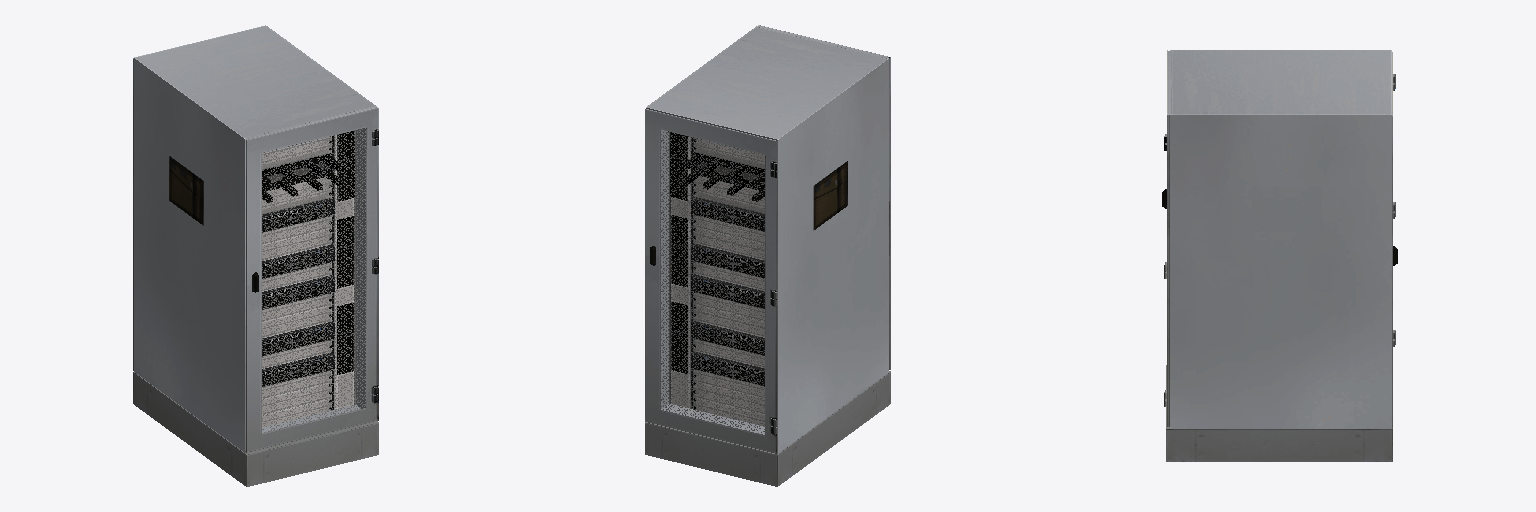
3 renders of one model, left to right at view 1: azimuth 30°, elevation 25°; view 2: azimuth 150°, elevation 25°; view 3: azimuth 270°, elevation 25°, orthographic.
Visible parts, largest first — view 1: SET8A_all; view 2: SET8A_all; view 3: SET8A_all.
Part boxes in pixels (x1,y1,x2,y2): SET8A_all: (133,25,378,486); SET8A_all: (645,25,890,486); SET8A_all: (1162,50,1397,461).
Size of the model in its own units: 0.8 by 2 by 1.23.
Materials: 1 (1 with a texture image).